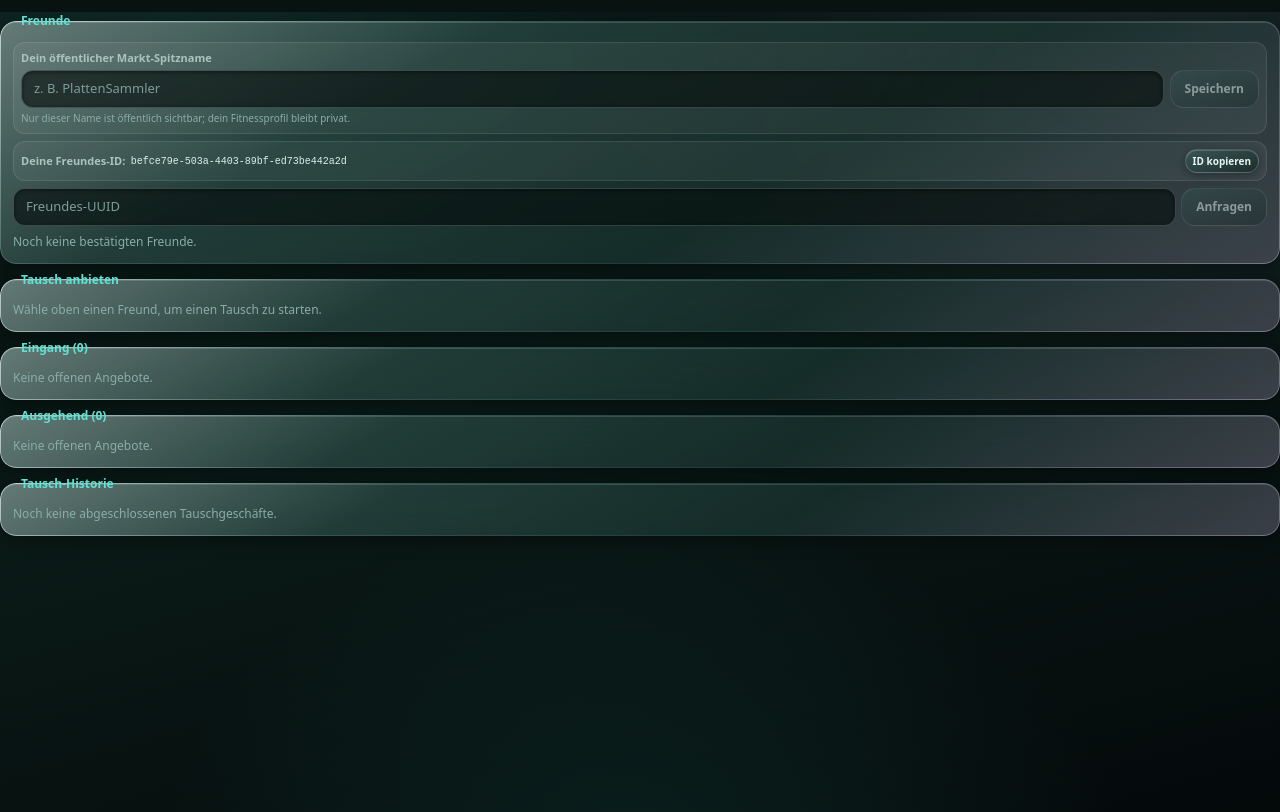
Freunde- und Marktoberfläche › speichert den öffentlichen Spitznamen über die Friends-API
The image size is (1280, 812).
Type "FitPlanFan" into the field labelled "öffentlicher Markt-Spitzname" at x=593, y=89, box [21,70,1164,108]
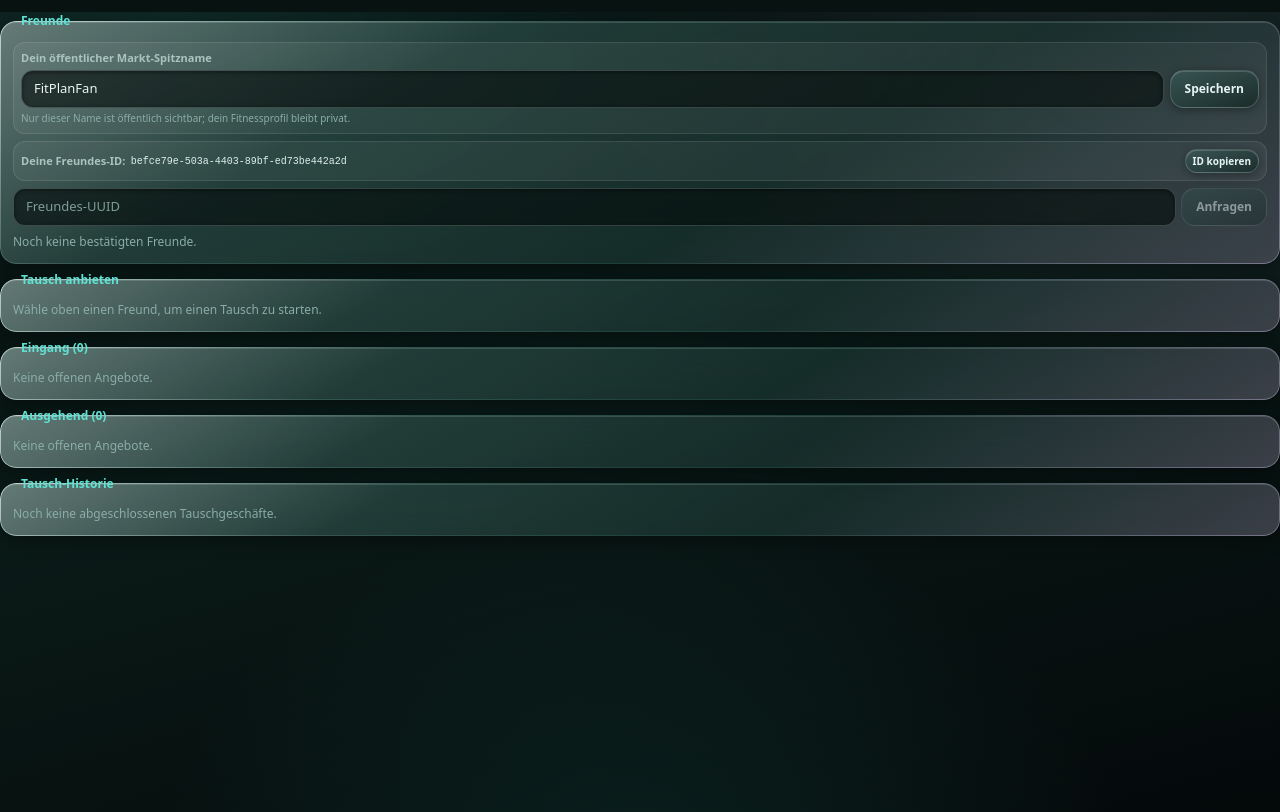
Click the button "Speichern" at x=1214, y=89, box [1170,70,1259,108]
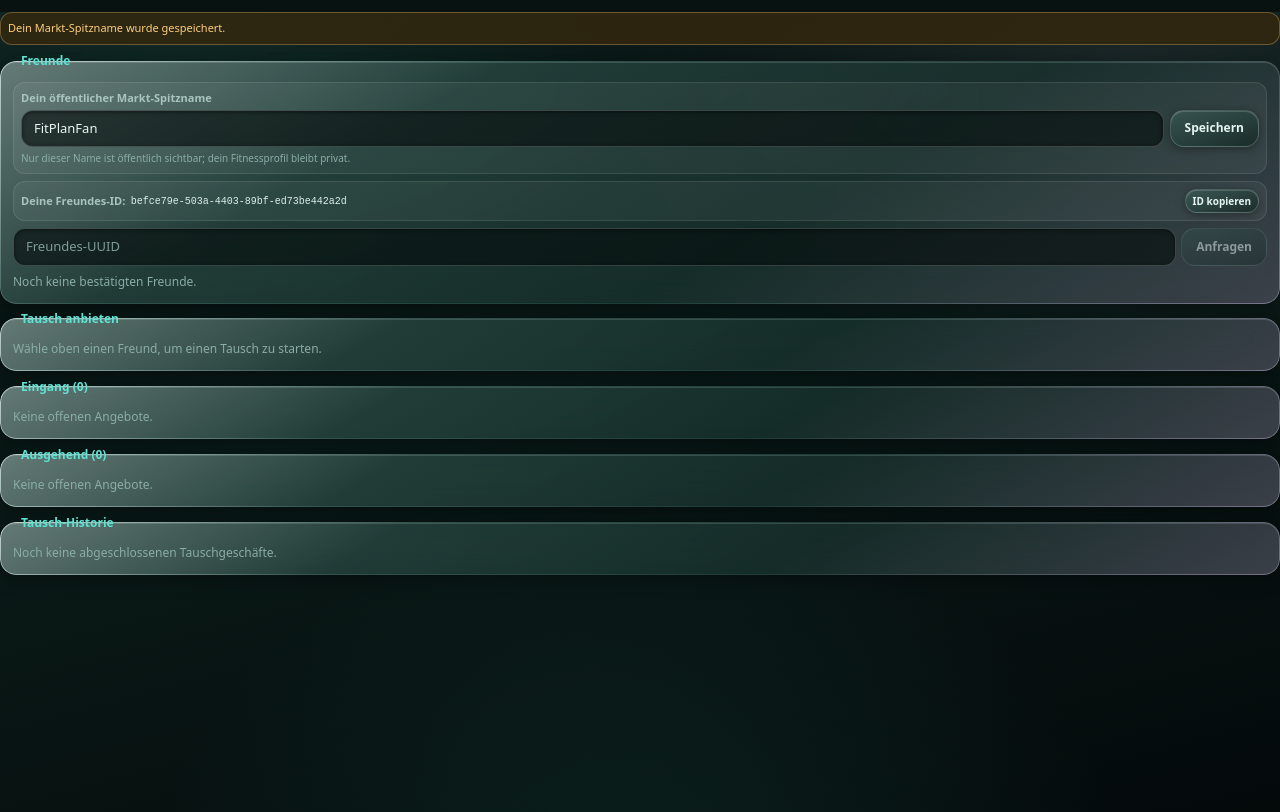
Expected: the message reads "Dein Markt-Spitzname wurde gespeichert.", [8,20,225,35]
